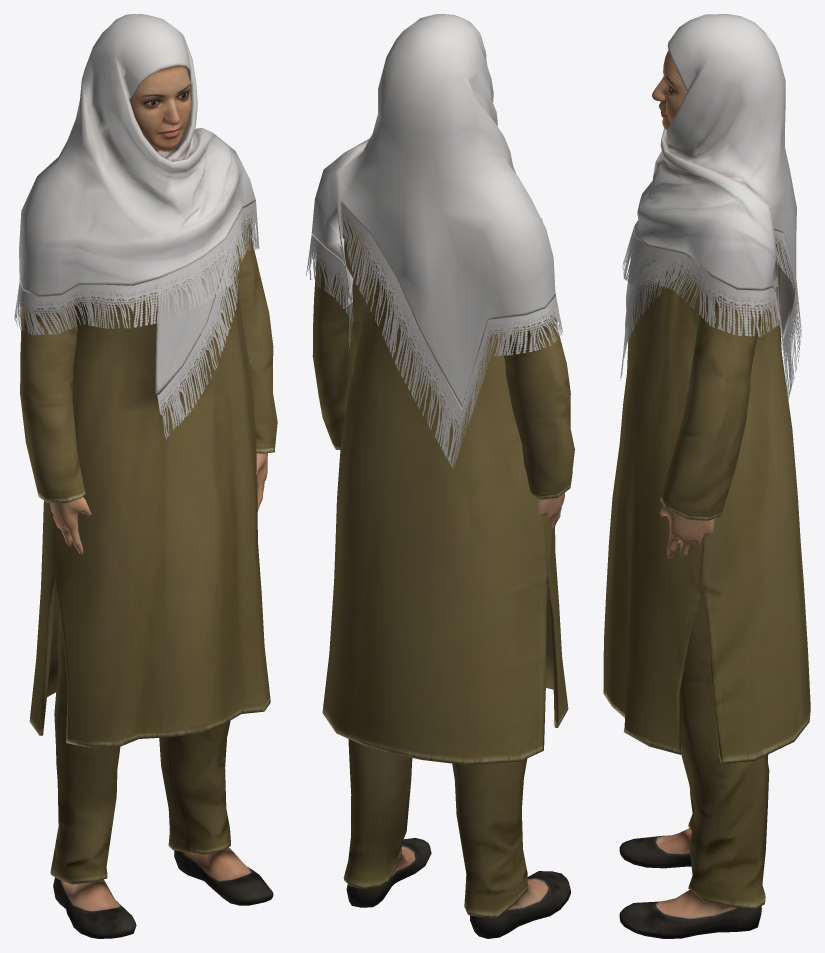
File: female-adult-06.glb
3 renders of one model, left to right at view 1: azimuth 30°, elevation 25°; view 2: azimuth 150°, elevation 25°; view 3: azimuth 270°, elevation 25°, orthographic.
Visible parts, largest first — view 1: f202_hipoly_81_bones_opacity; view 2: f202_hipoly_81_bones_opacity; view 3: f202_hipoly_81_bones_opacity.
Boxes of the visible parts, x1,y1,x2,y2 form: f202_hipoly_81_bones_opacity: [14, 14, 277, 938]; f202_hipoly_81_bones_opacity: [306, 14, 574, 938]; f202_hipoly_81_bones_opacity: [603, 14, 810, 938].
Bounding box in the file's own units: 0.496 × 1.7 × 0.3645.
3 materials, 3 textured.
